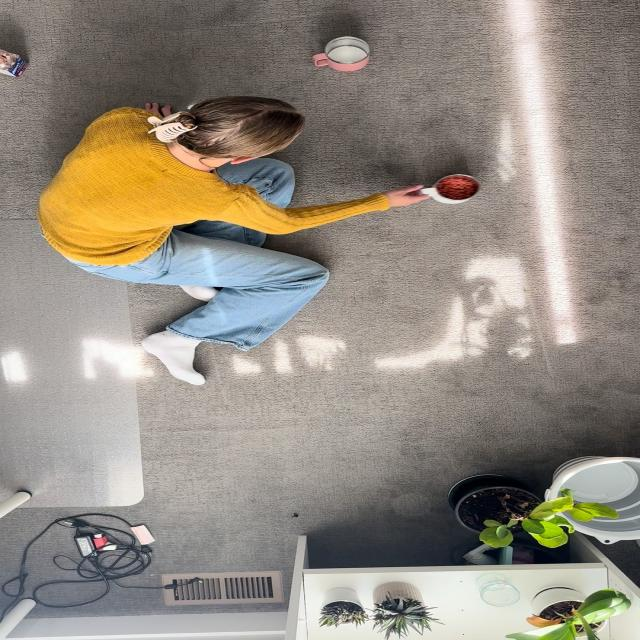IBC: (312, 36, 370, 72), (419, 174, 479, 204)
